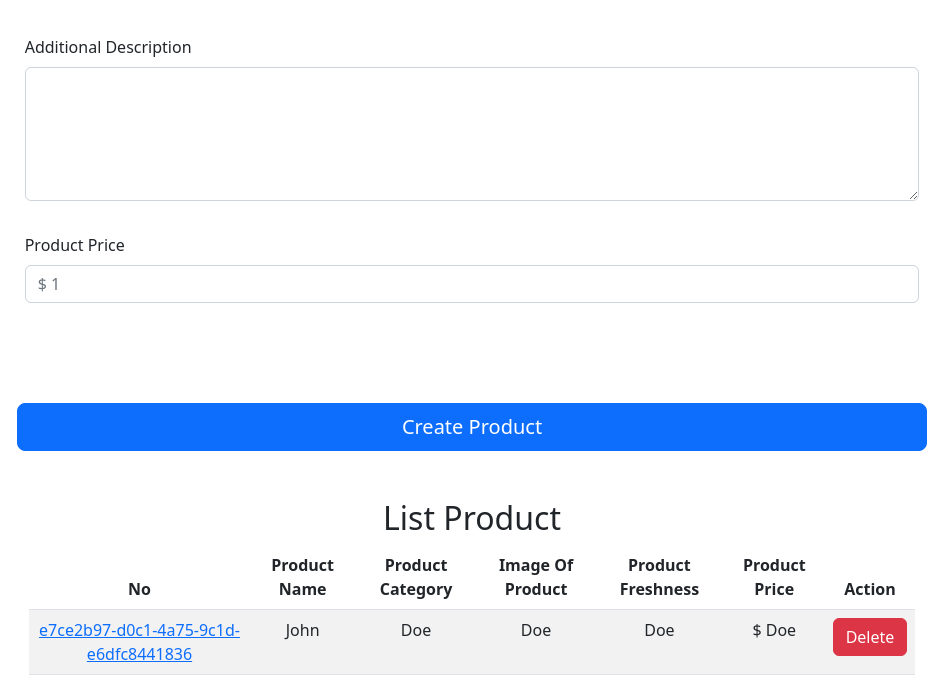
Test: should show error message when Product Name is empty
(page scrolled)
What coordinates should you click on to do the following:
click the button "Create Product"
I would click on:
 (472, 427)
Its box is [17,403,927,451].
(page scrolled)
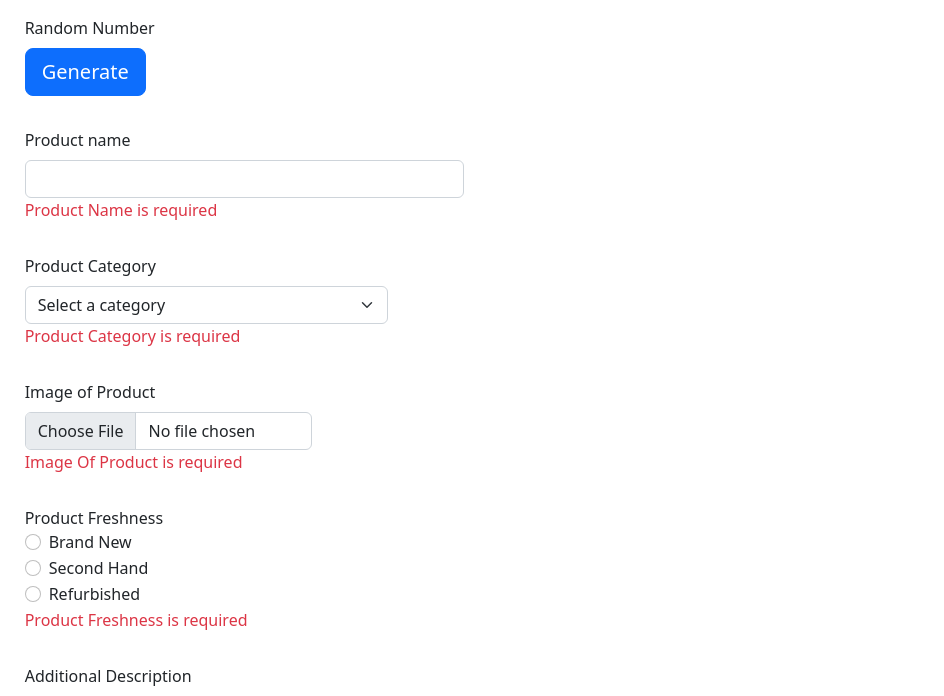
Expected: the text "Product Name is required" is shown, [25,199,217,221]
